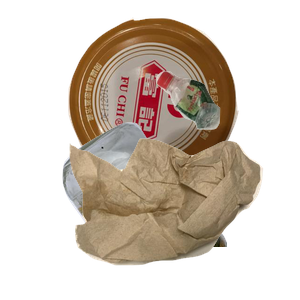glass: (60, 120, 300, 300)
metal: (66, 15, 297, 193)
plastic: (153, 68, 300, 190)
trash: (67, 136, 300, 300)
